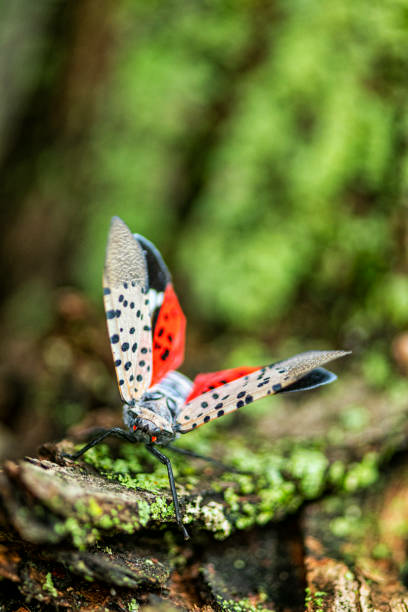adult: (63, 209, 346, 523)
